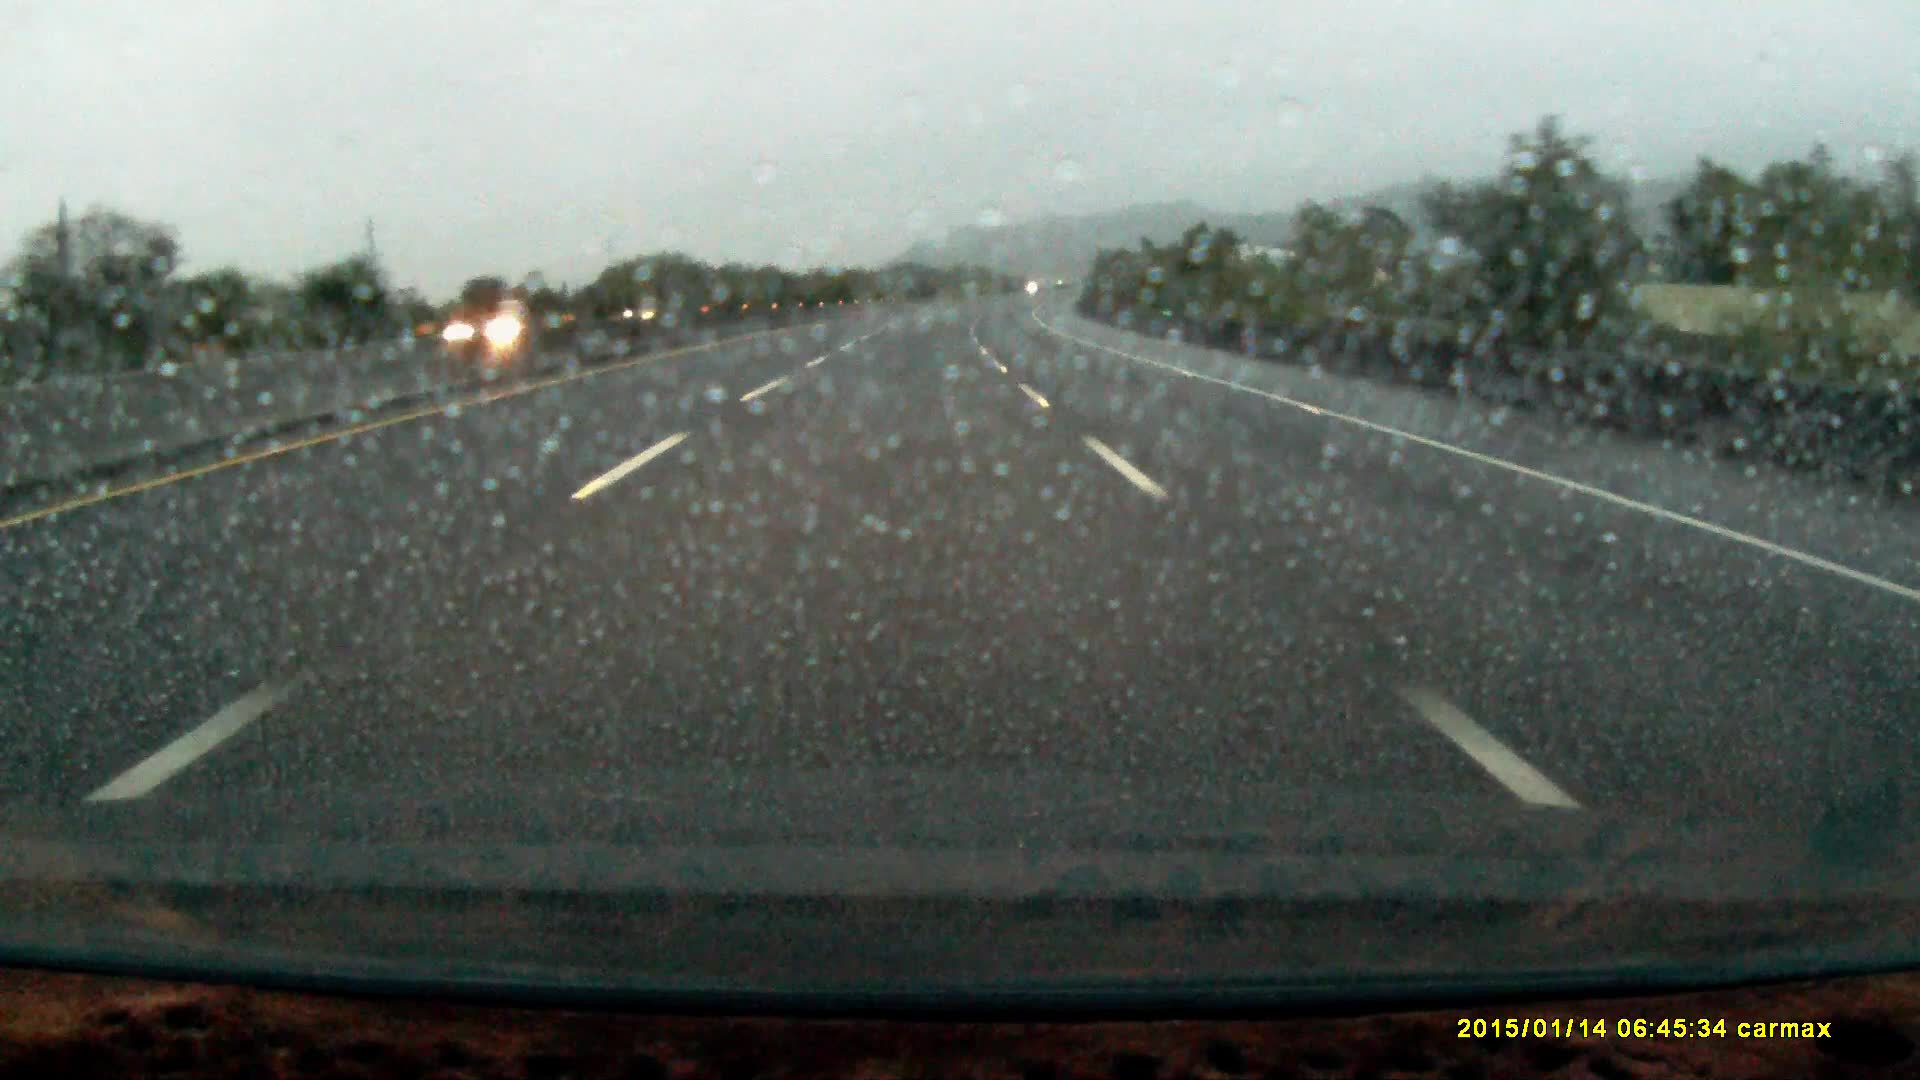vehicle: (444, 299, 579, 340), (615, 295, 688, 326)
